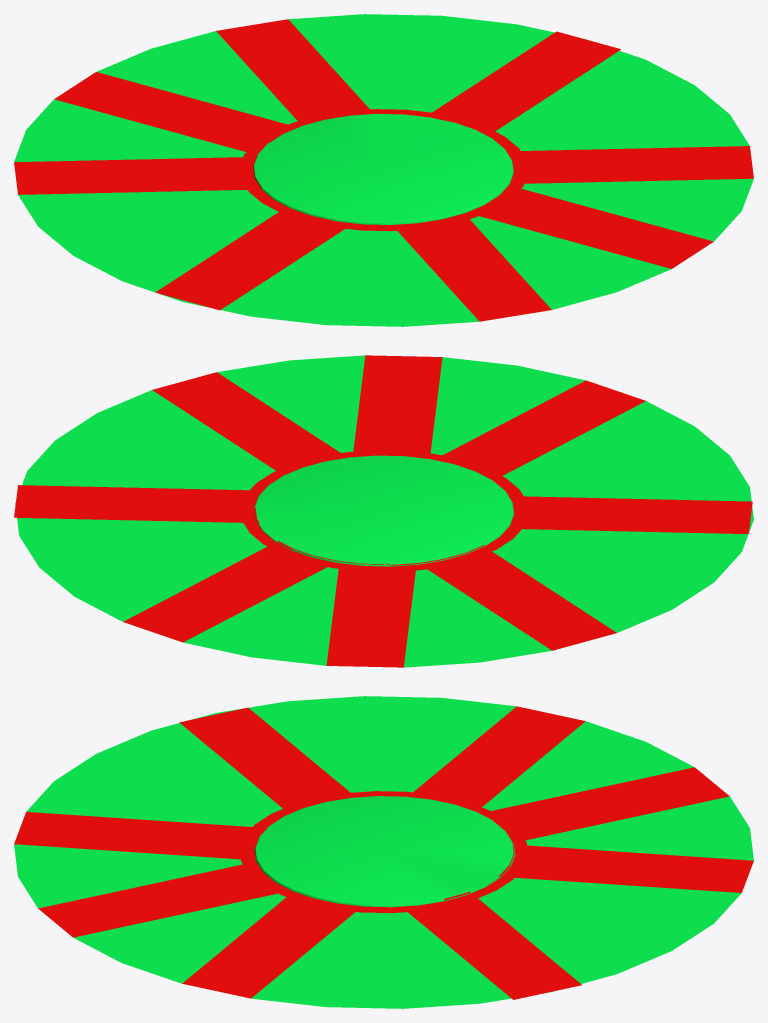
Rendered from Ground_passages+dales_low.FBX.
3 renders of one model, top to bottom at view 1: azimuth 30°, elevation 25°; view 2: azimuth 150°, elevation 25°; view 3: azimuth 270°, elevation 25°, orthographic.
Visible parts, largest first — view 1: Object008, Object009; view 2: Object008, Object009; view 3: Object008, Object009.
Boxes of the visible parts, left/top/right/bottom form: Object008: left=14, top=14, right=753, bottom=326; Object009: left=14, top=19, right=753, bottom=321; Object008: left=15, top=355, right=753, bottom=667; Object009: left=14, top=355, right=752, bottom=667; Object008: left=14, top=696, right=753, bottom=1008; Object009: left=14, top=706, right=753, bottom=999.
Size of the model in its own units: 378 by 1.08 by 378.
